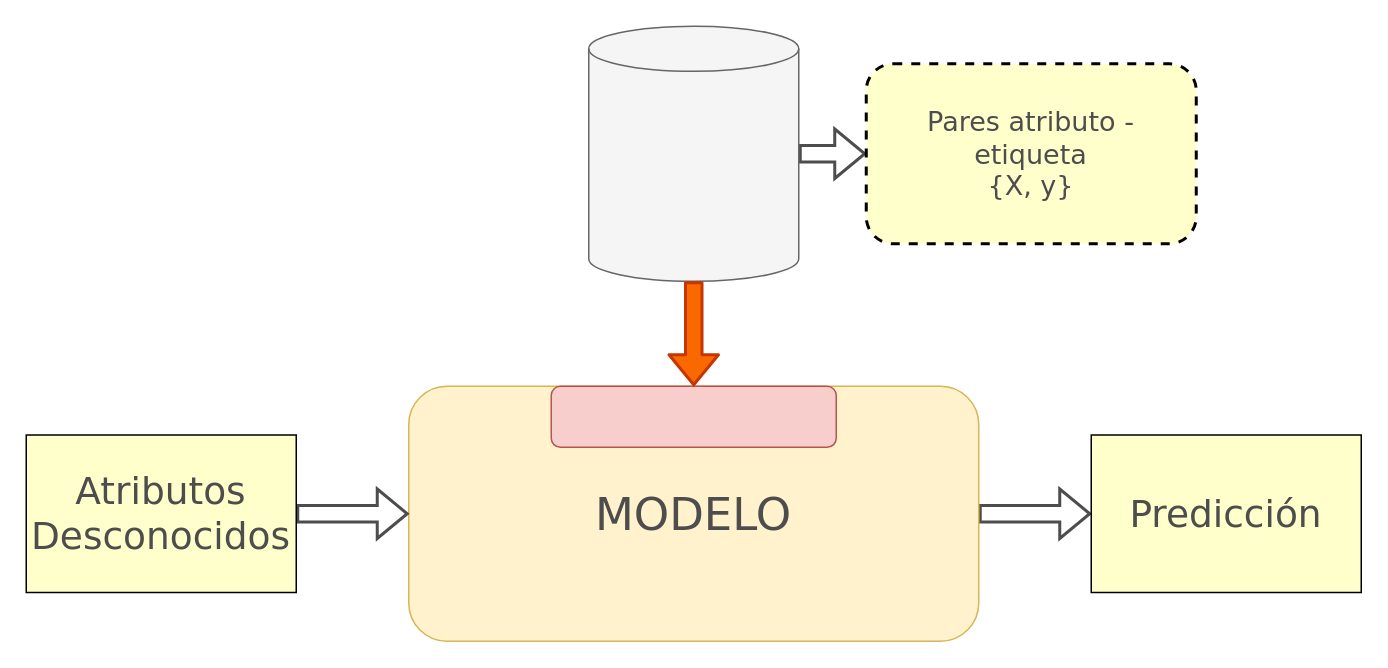
Image size: 1388x668. Some labels were removed from this diagram. Here are the shapes that lost their labels. From the top down, the centre of each, then its label:
At [693,153]: "DATASET".
At [693,416]: "PARÁMETROS".
